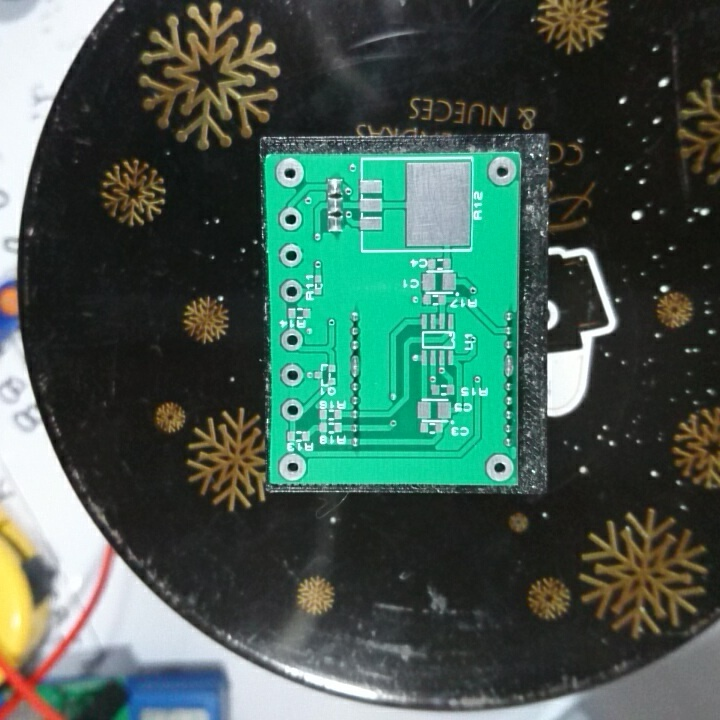F: (272, 155, 306, 189), (485, 155, 518, 188), (482, 451, 516, 482), (275, 240, 305, 269), (279, 452, 309, 479), (277, 276, 305, 303), (278, 205, 304, 234), (279, 360, 305, 389), (280, 396, 307, 421), (278, 327, 305, 351)
P: (502, 351, 521, 378), (348, 352, 366, 380)
